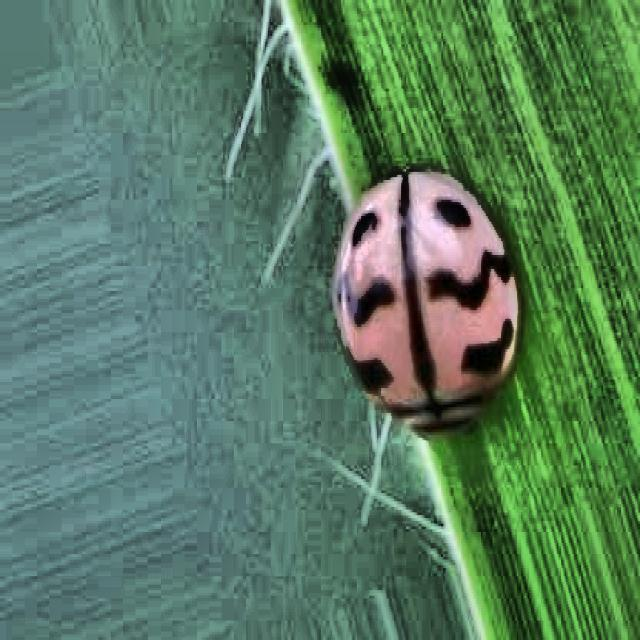Asian-Lady-beetle: (310, 122, 557, 478)
